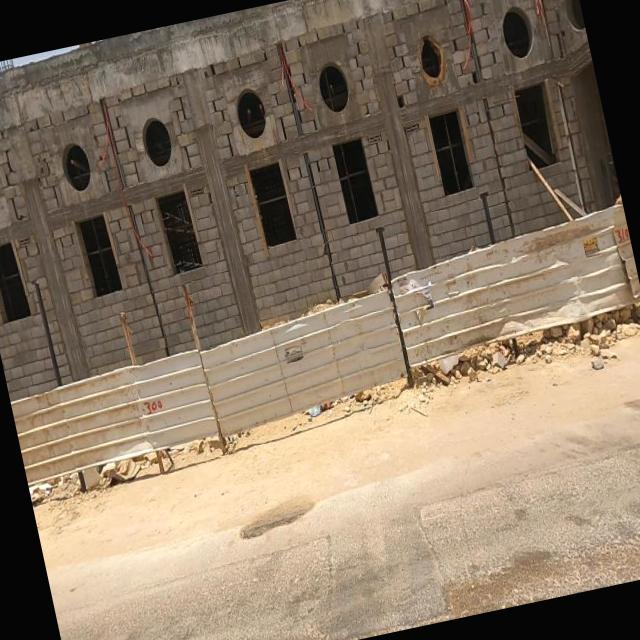debris: (56, 416, 180, 526), (401, 314, 505, 406), (278, 376, 358, 456)
